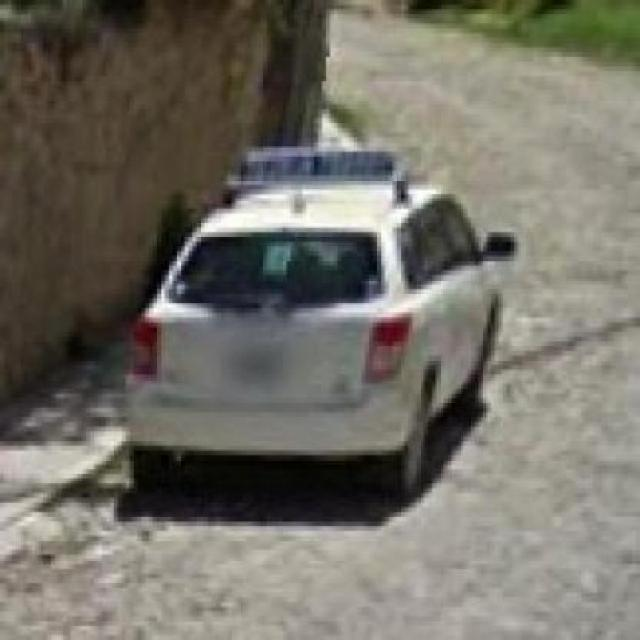car: (122, 186, 500, 479)
